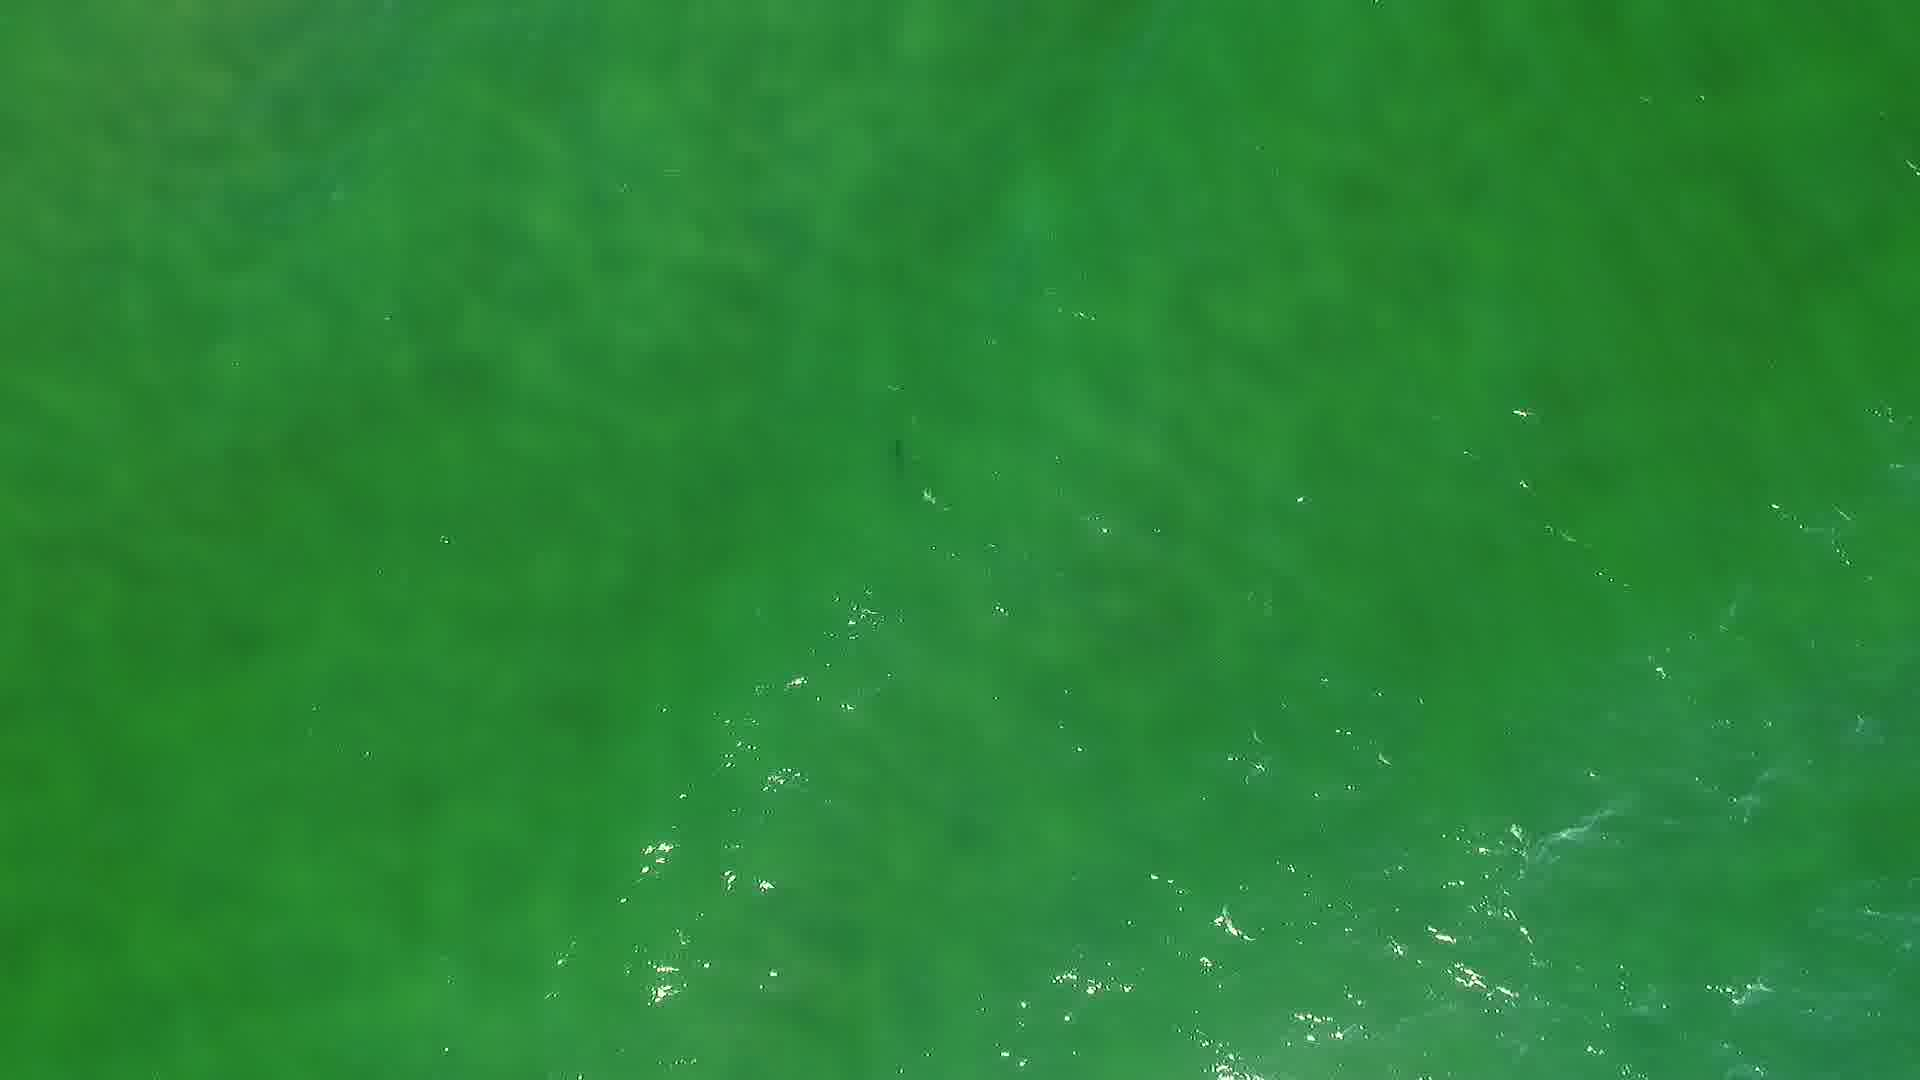shark: (886, 435, 913, 484)
